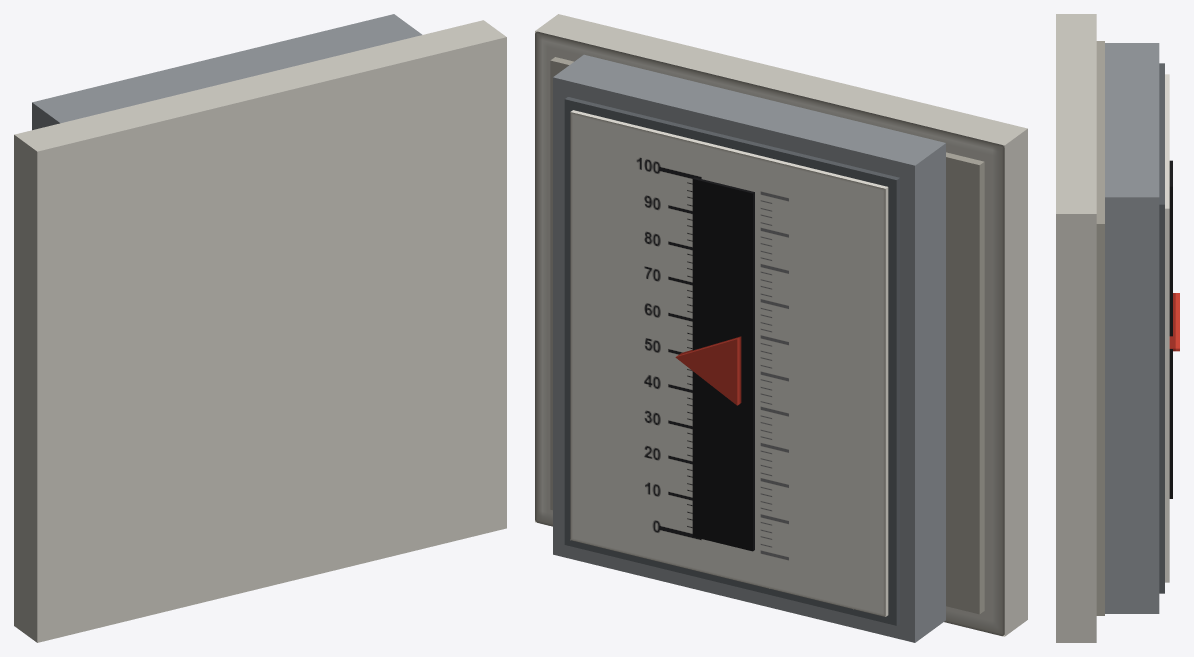
The model's file is gauge_50.obj.
3 renders of one model, left to right at view 1: azimuth 30°, elevation 25°; view 2: azimuth 150°, elevation 25°; view 3: azimuth 270°, elevation 25°, orthographic. The views are drawn at different scales.
Parts seen in each view (by area): view 1: Panel, Frame; view 2: Face, Panel, Frame, Needle; view 3: Frame, Panel, Face, Needle.
Boxes of the visible parts, bbox=[...] form: Panel: bbox=[14, 20, 506, 642]; Frame: bbox=[32, 14, 422, 130]; Face: bbox=[570, 110, 888, 616]; Panel: bbox=[535, 14, 1027, 636]; Frame: bbox=[553, 54, 945, 642]; Needle: bbox=[675, 336, 741, 405]; Frame: bbox=[1105, 43, 1164, 613]; Panel: bbox=[1056, 14, 1104, 642]; Face: bbox=[1165, 74, 1172, 582]; Needle: bbox=[1169, 293, 1179, 351].
Bounding box in the file's own units: 0.875 × 0.875 × 0.2288.
Materials: 1 (1 with a texture image).
